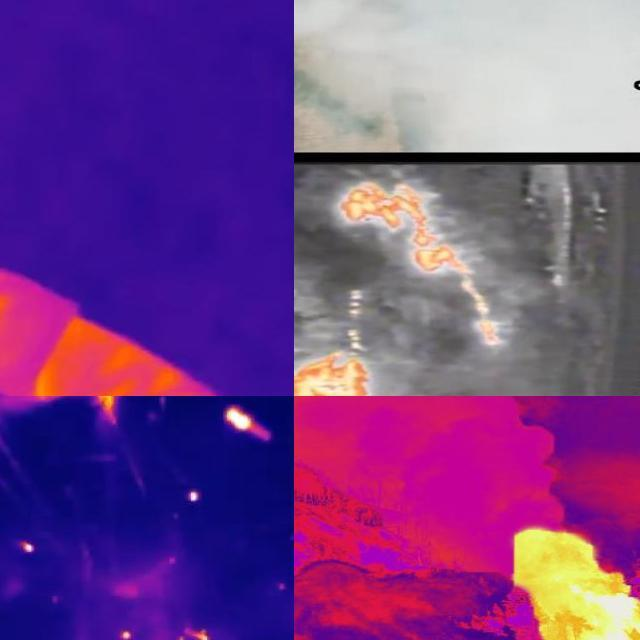fire: (446, 489, 640, 640), (414, 247, 503, 350), (335, 182, 443, 246), (295, 350, 395, 397), (221, 405, 267, 437)
